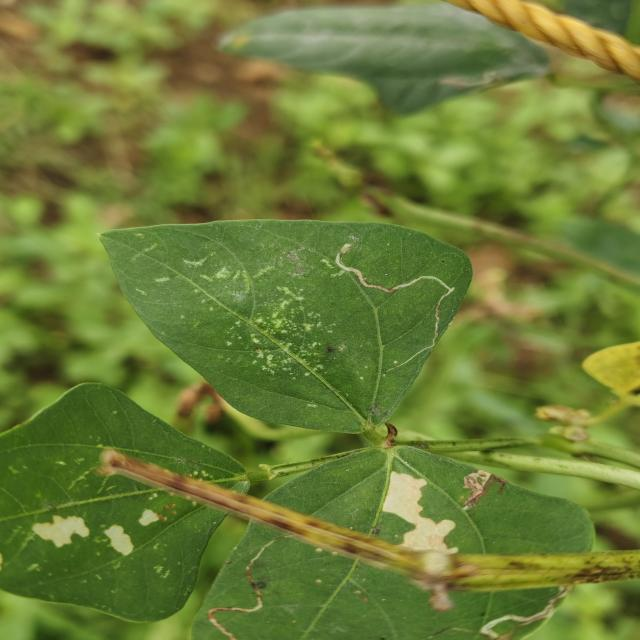sitaw-aphid-high: (101, 220, 472, 460), (192, 523, 567, 640), (264, 446, 594, 572), (0, 452, 225, 622), (12, 385, 189, 460)
